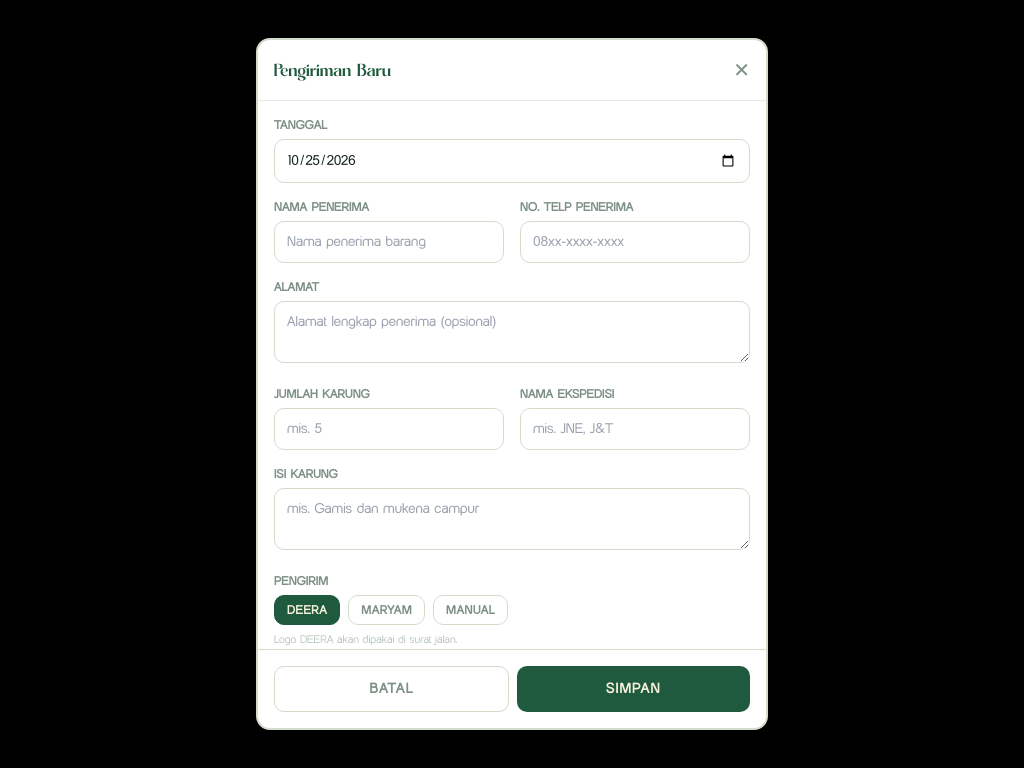
it: PengirimanForm › autocomplete daftar penerima (reuse pelanggan, permintaan Denny 2026-08) › mengedit nama penerima setelah pilih saran melepas link (pelangganId direset ke null)
In the field with placeholder "Nama penerima barang": [389, 242] box [274,221,504,263], type "Budi"
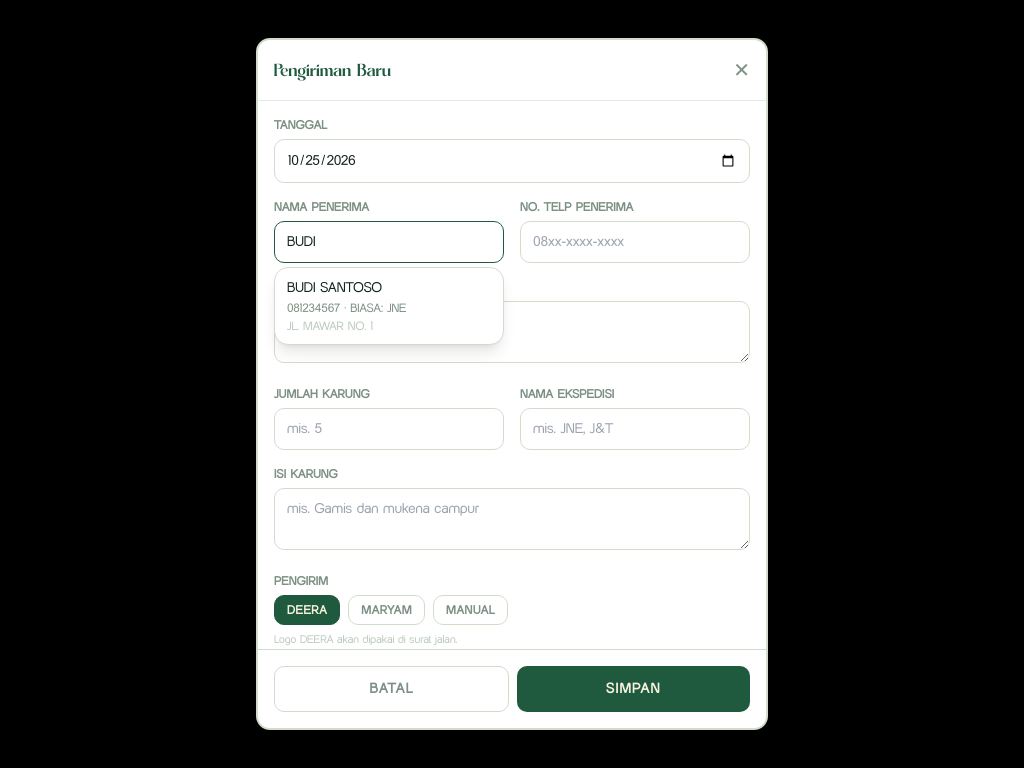
Expected: the text "Jl. Mawar No. 1" is shown
Click the text "Jl. Mawar No. 1": [330, 326] box [287,318,373,333]
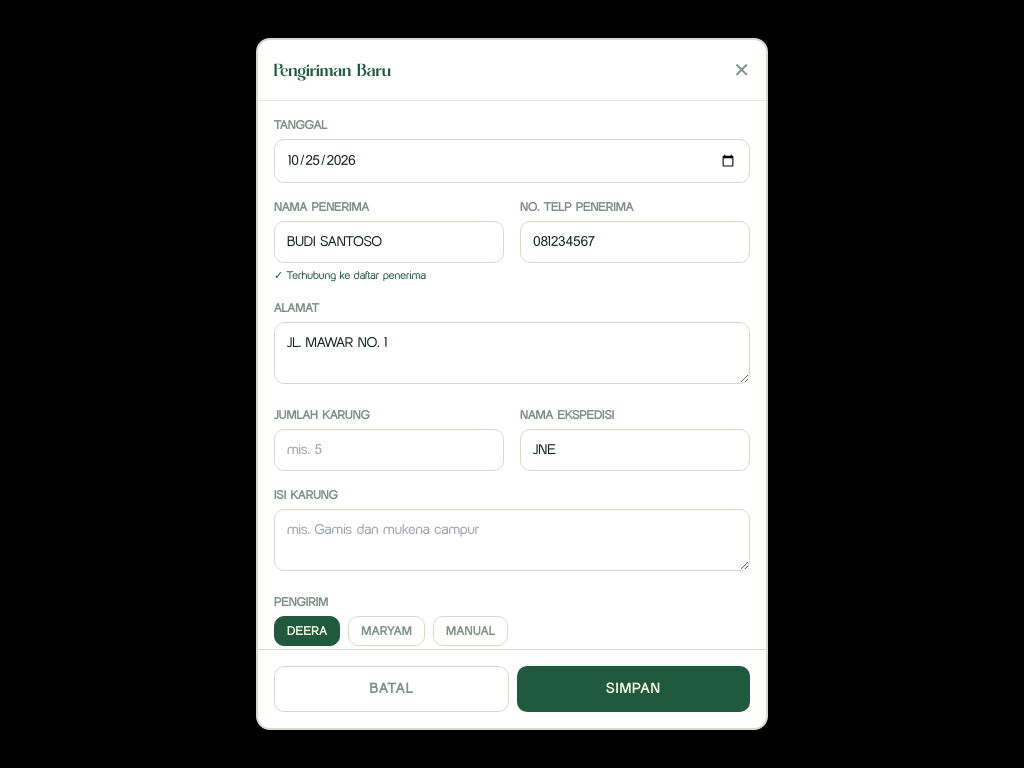
Expected: the text "✓ Terhubung ke daftar penerima" is shown, [274,268,426,282]
In the field with placeholder "Nama penerima barang" below "Nama Penerima": [389, 242] box [274,221,504,263], type " Lain"
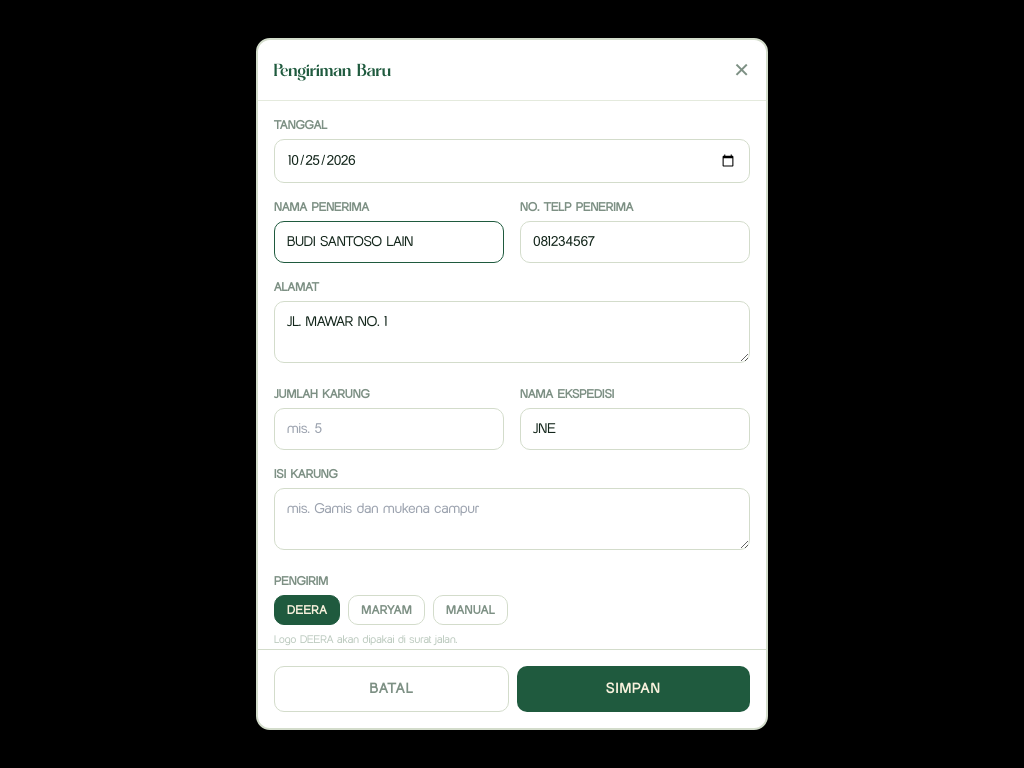
Expected: the text "✓ Terhubung ke daftar penerima" is gone
